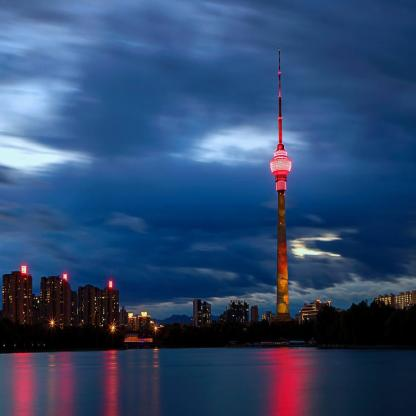other: (268, 337, 309, 409), (9, 352, 36, 408), (272, 111, 292, 185), (102, 350, 121, 415), (55, 349, 76, 405), (16, 248, 28, 274), (107, 319, 122, 336), (106, 274, 116, 291), (47, 316, 58, 328), (60, 270, 69, 280)
